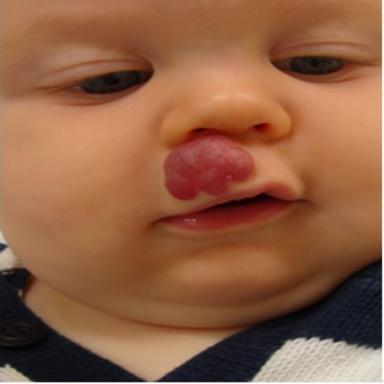Hemangiome: (164, 135, 254, 199)
